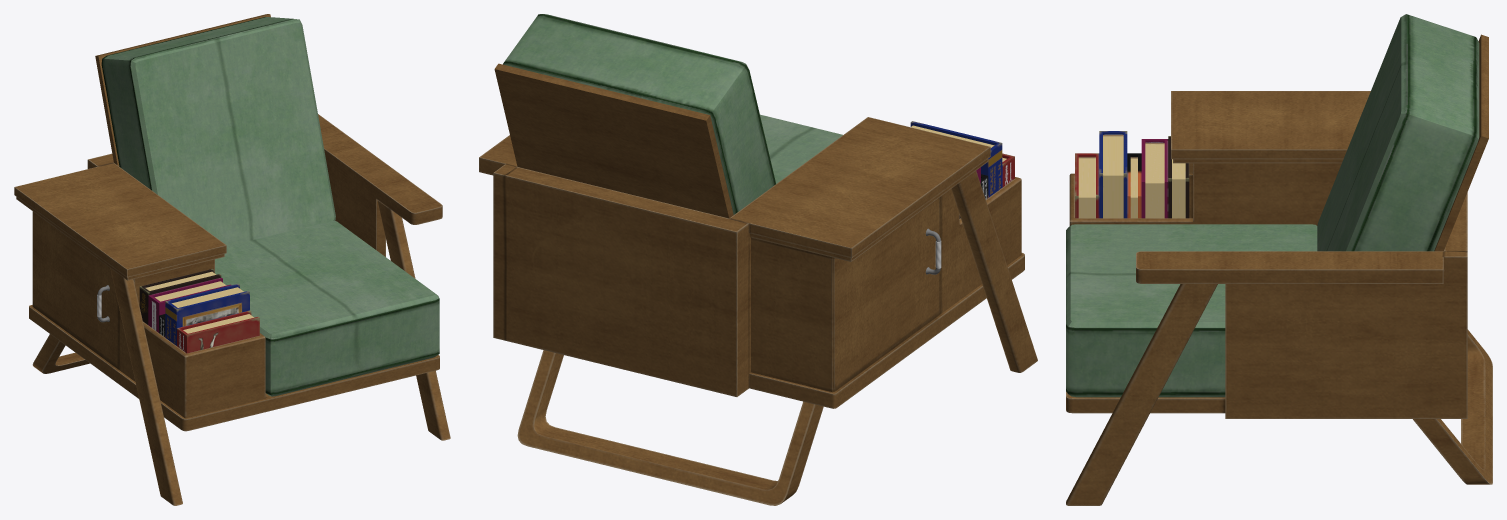
The model's file is vintage_chair.glb.
3 renders of one model, left to right at view 1: azimuth 30°, elevation 25°; view 2: azimuth 150°, elevation 25°; view 3: azimuth 270°, elevation 25°, orthographic. The views are drawn at different scales.
Visible parts, largest first — view 1: Group001, Box012__0, Box013__0, Box022__0; view 2: Box012__0, Group001, Box013__0; view 3: Box012__0, Group001, Box022__0.
Part boxes in pixels (bbox=[...]): Group001: bbox=[32, 14, 439, 396]; Box012__0: bbox=[14, 114, 442, 431]; Box013__0: bbox=[110, 268, 182, 505]; Box022__0: bbox=[377, 200, 450, 440]; Box012__0: bbox=[479, 117, 1024, 408]; Group001: bbox=[494, 14, 1014, 505]; Box013__0: bbox=[951, 171, 1037, 372]; Box012__0: bbox=[1066, 91, 1467, 418]; Group001: bbox=[1066, 14, 1492, 484]; Box022__0: bbox=[1066, 284, 1217, 505].
Size of the model in its own units: 2.35 by 2.38 by 2.37.
1 material, 1 textured.
